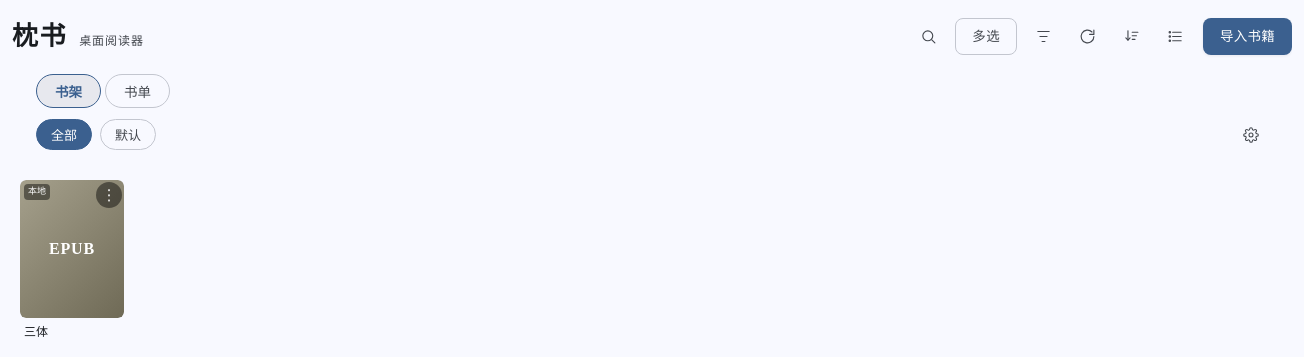
Test: LibraryPage › shows relative last-opened time in list mode
The width and height of the screenshot is (1304, 357).
expect the text "三体" is shown: met, box [24,323,48,340]
expect the text "2 天前" is not shown: met
What coordinates should you click on to do the following:
click the button named "切换为列表"
I would click on:
 (1176, 37)
Its box is [1159,20,1193,54].
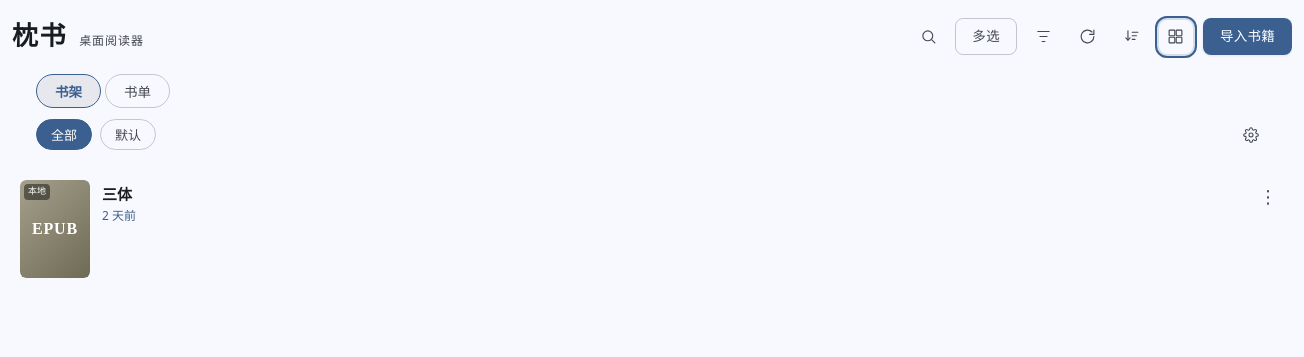
expect the text "2 天前" is shown: met, box [102,206,136,225]
